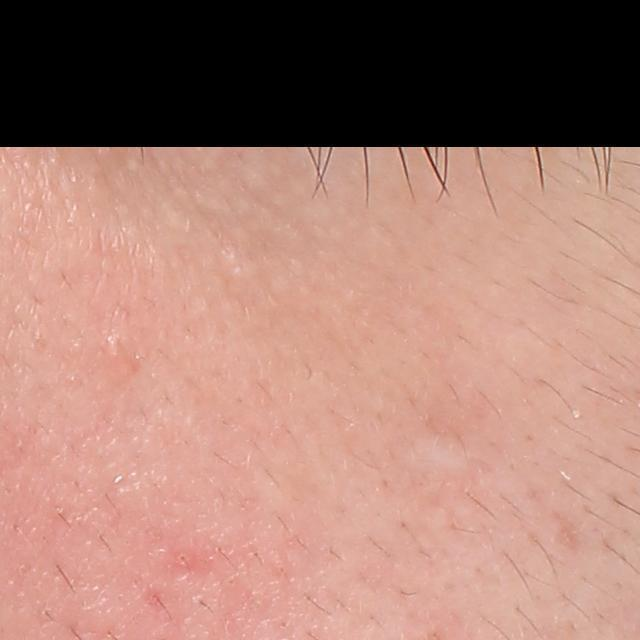comedo: (106, 334, 125, 357)
hypertrophic_scar: (405, 427, 476, 479)
